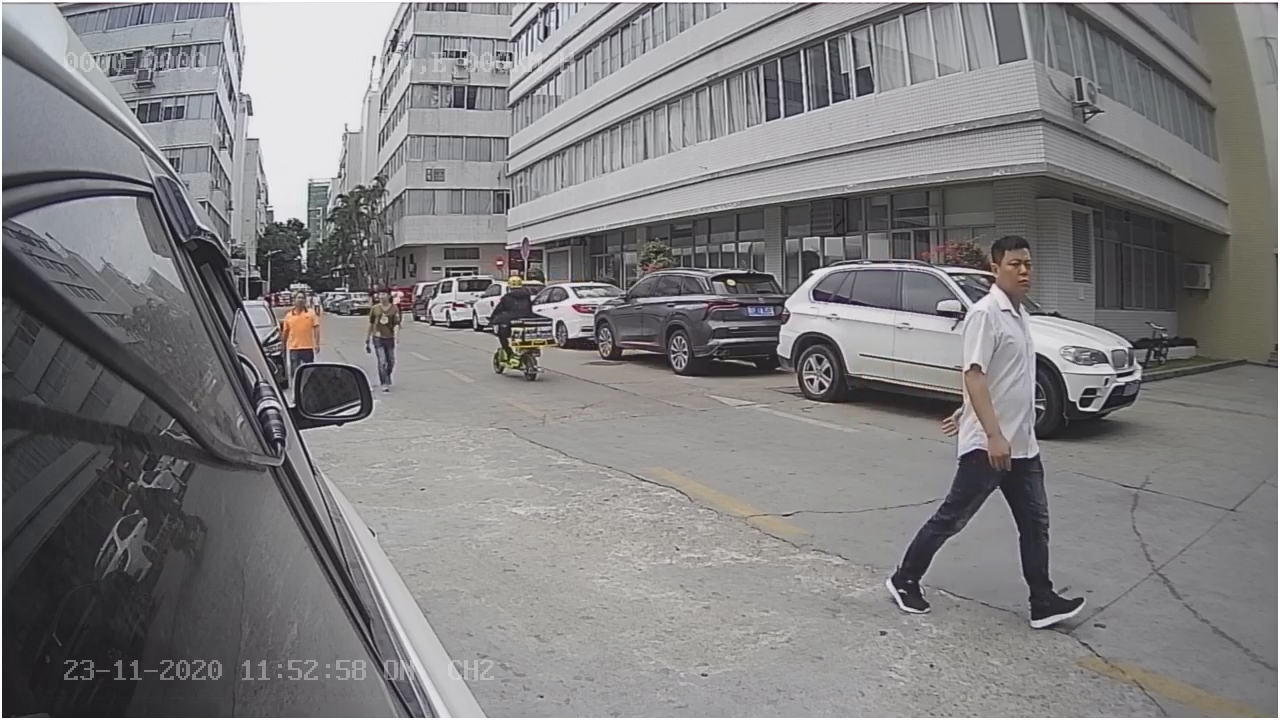person: (940, 229, 1058, 628)
